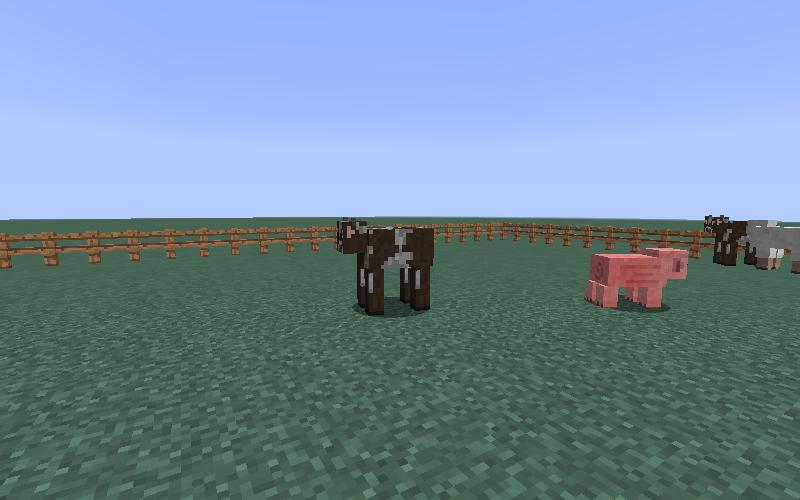cow: (331, 216, 438, 320), (705, 215, 746, 266)
pig: (581, 245, 690, 313)
sheep: (743, 217, 800, 278)
